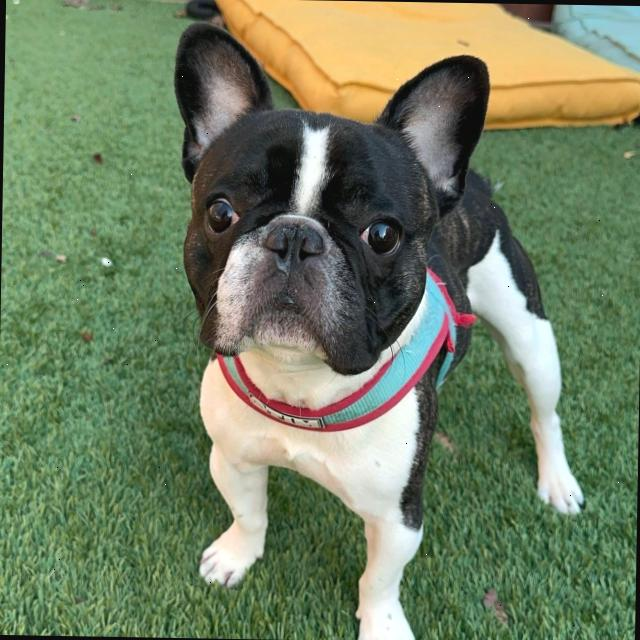french_bulldog_dog: (152, 16, 506, 392)
